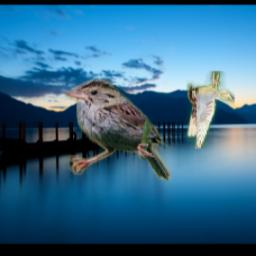Sparrow: (65, 79, 171, 181), (188, 72, 236, 149)
